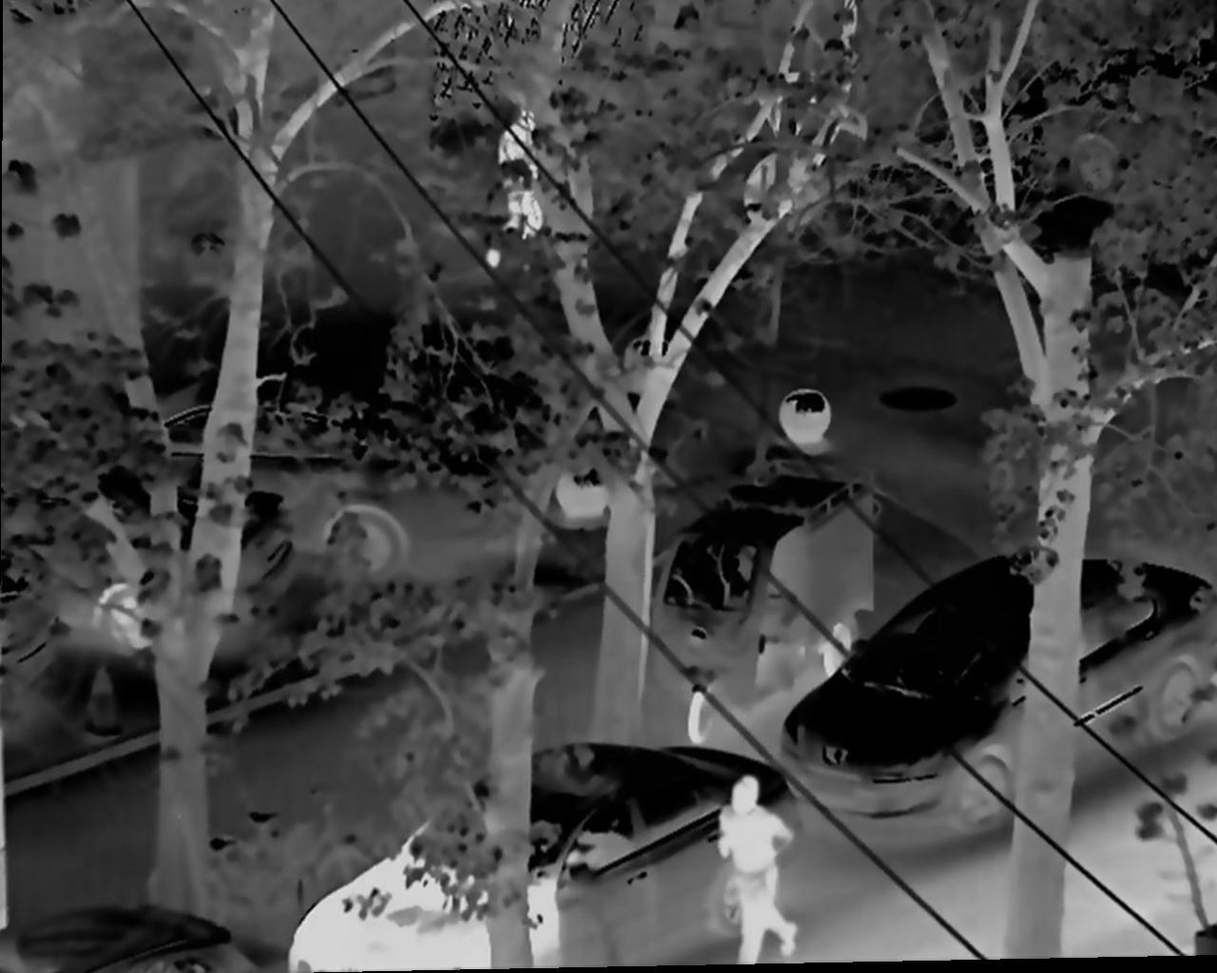person: (705, 773, 806, 963), (486, 98, 561, 270)
